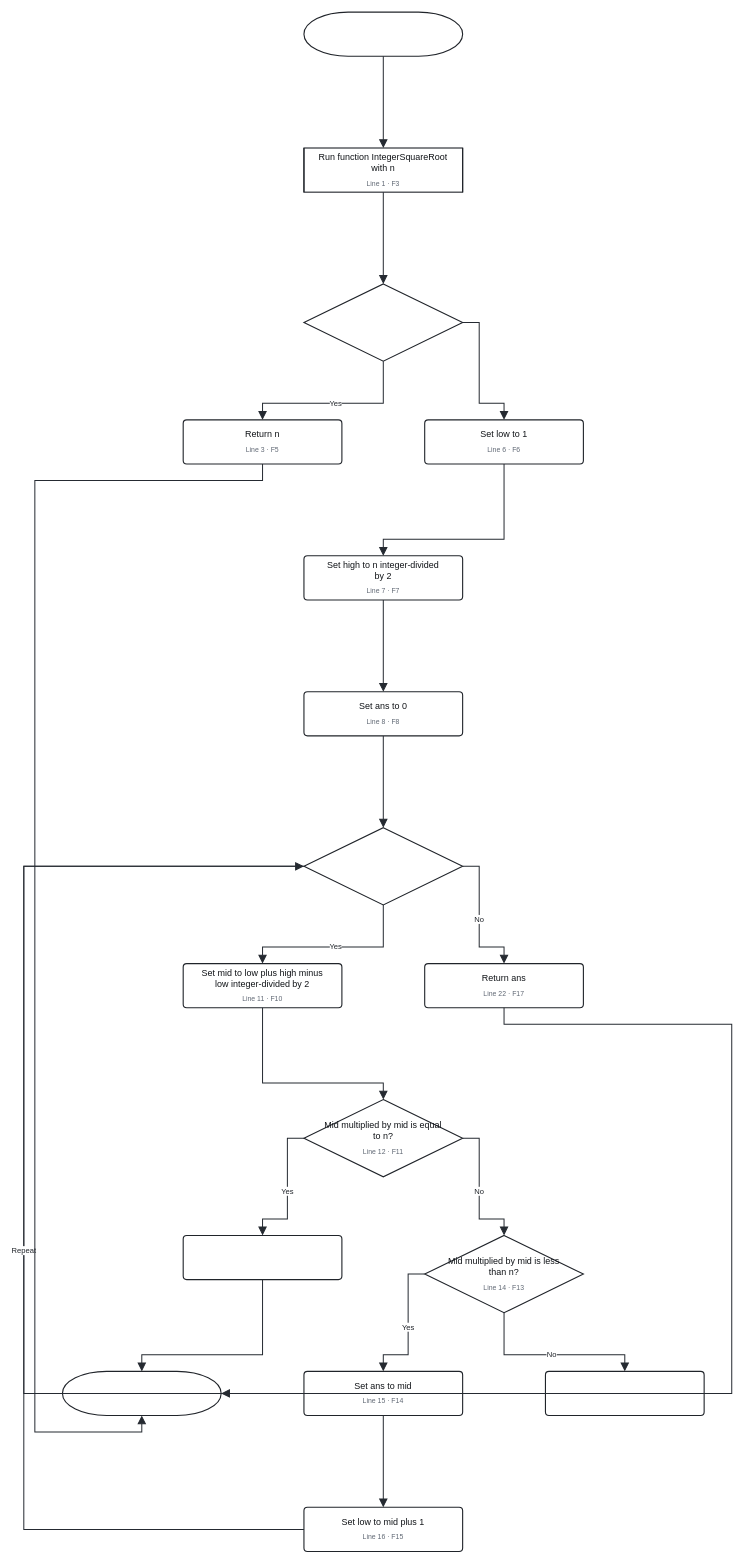
The diagram is 752 pixels wide and 1564 high, and some of its shapes have lost their labels. The centre of each missing label's shape, as x and y in pixels:
End Line 1 · F2: the point at 141,1393
Low is less than or equal to high? Line 10 · F9: the point at 383,866
N is less than 2? Line 2 · F4: the point at 383,322
Return mid Line 13 · F12: the point at 262,1257
Set high to mid minus 1 Line 18 · F16: the point at 624,1393
Start Line 1 · F1: the point at 383,33
